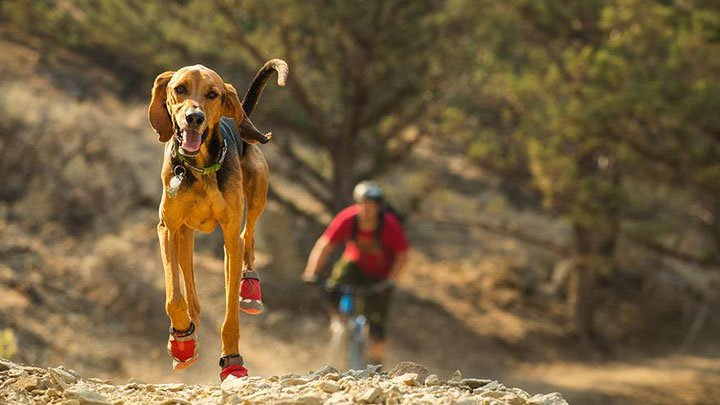dog: (130, 48, 297, 389)
